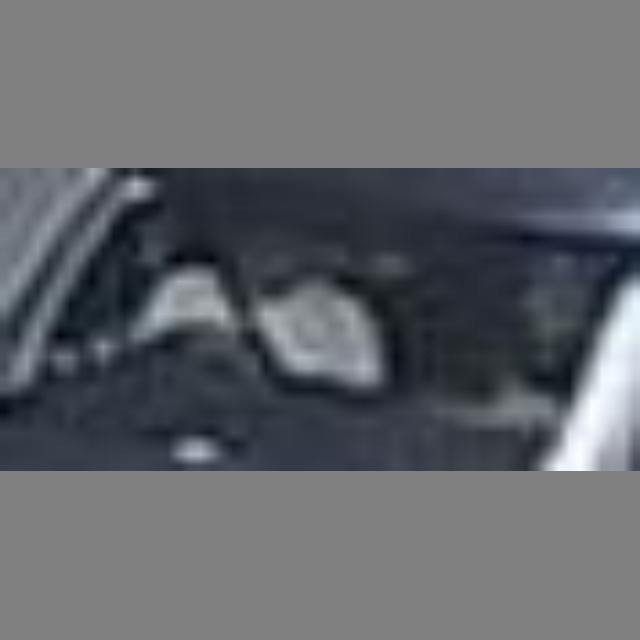pakai: (130, 211, 358, 407)
